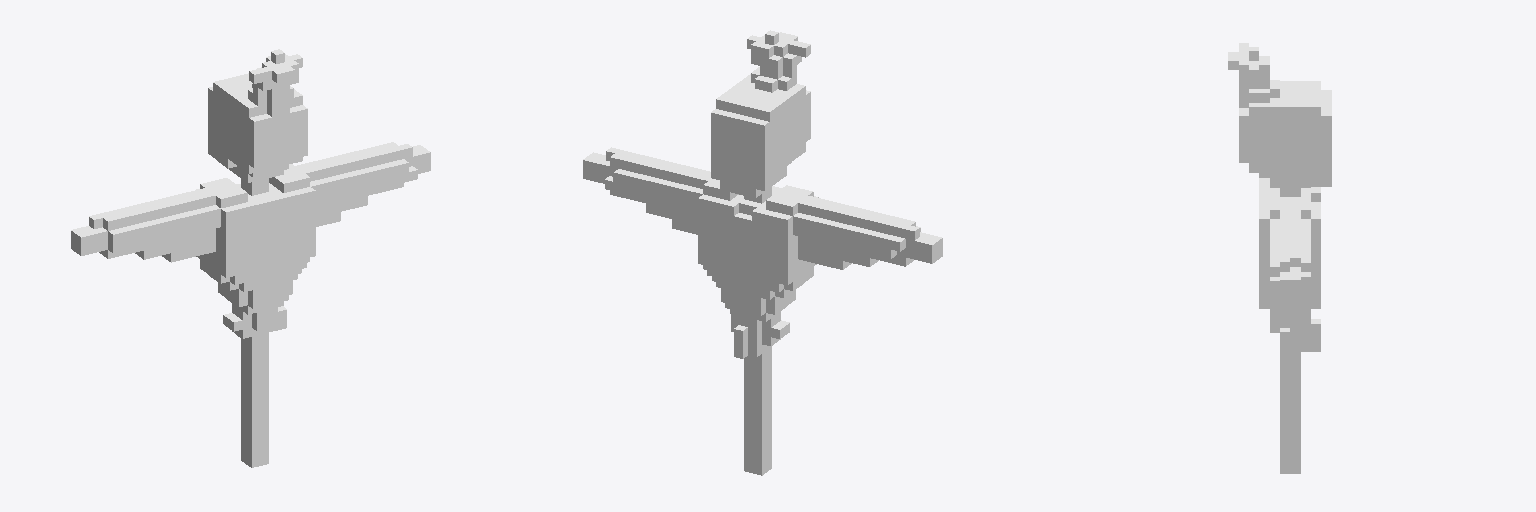
File: dummy.obj
3 renders of one model, left to right at view 1: azimuth 30°, elevation 25°; view 2: azimuth 150°, elevation 25°; view 3: azimuth 270°, elevation 25°, orthographic.
Parts seen in each view (by area): view 1: object 1; view 2: object 1; view 3: object 1.
Boxes of the visible parts, box(x1,y1,x2,y2) form: object 1: box(71, 49, 430, 467); object 1: box(583, 30, 942, 475); object 1: box(1228, 43, 1331, 473).
Bounding box in the file's own units: 3.9 × 4.5 × 1.